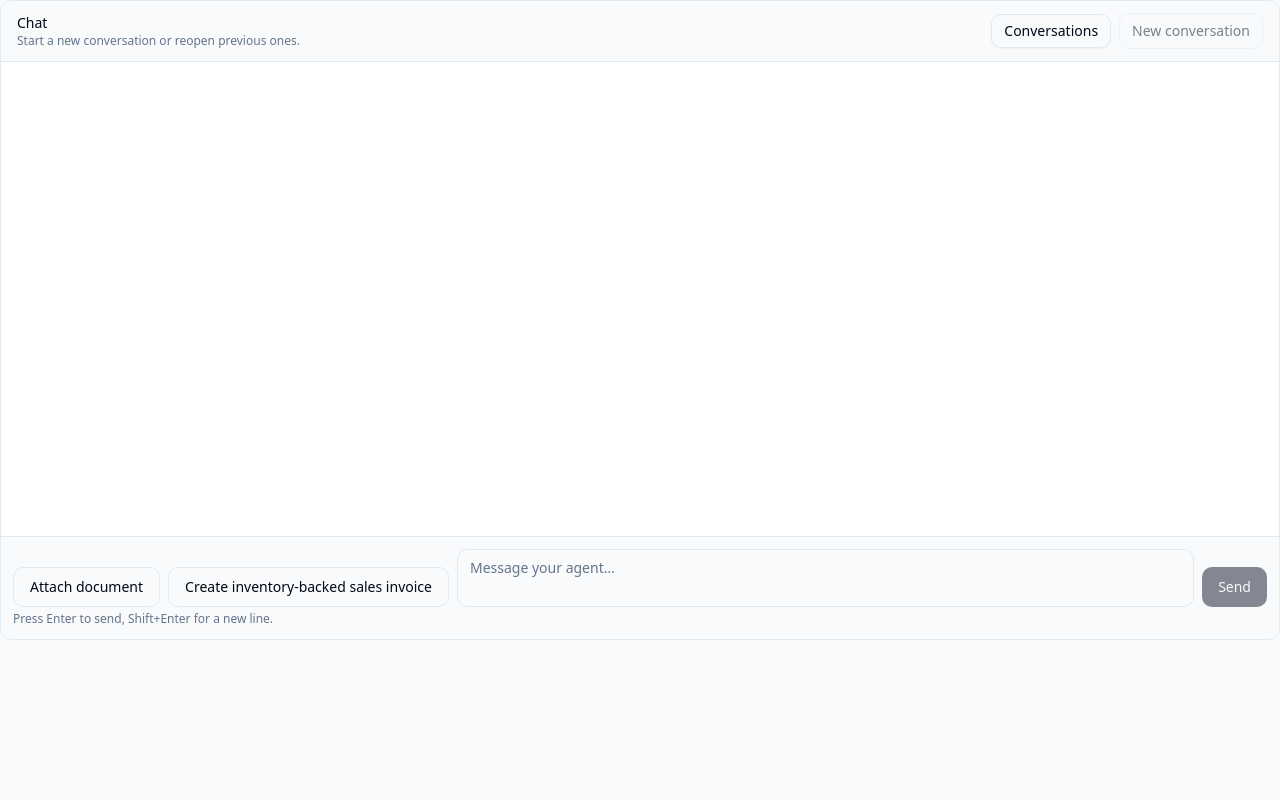
ChatWindow › reopens a selected old conversation from the menu
Step 1. Click the heading "Conversations" → click(1051, 31), box left=991, top=14, right=1111, bottom=48
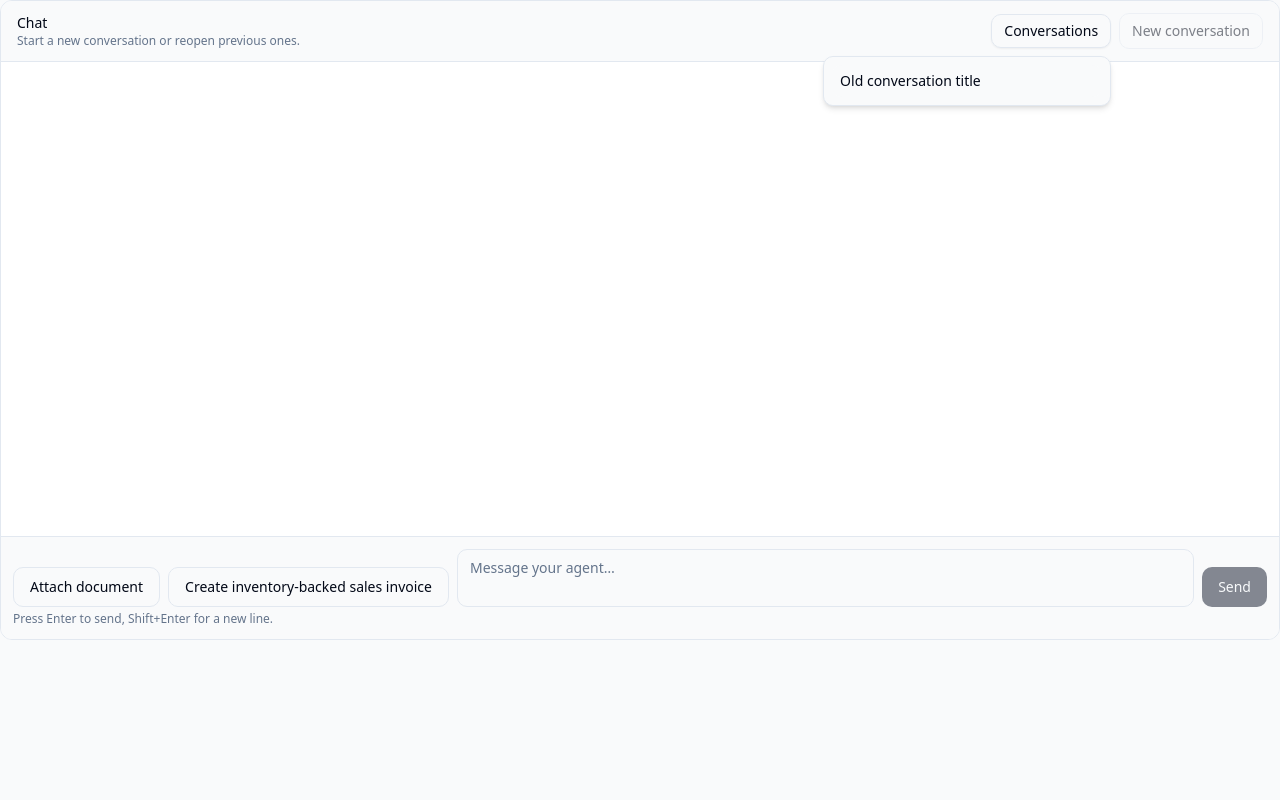
Step 2. Click the button "Old conversation title" → click(967, 81), box left=832, top=65, right=1102, bottom=97
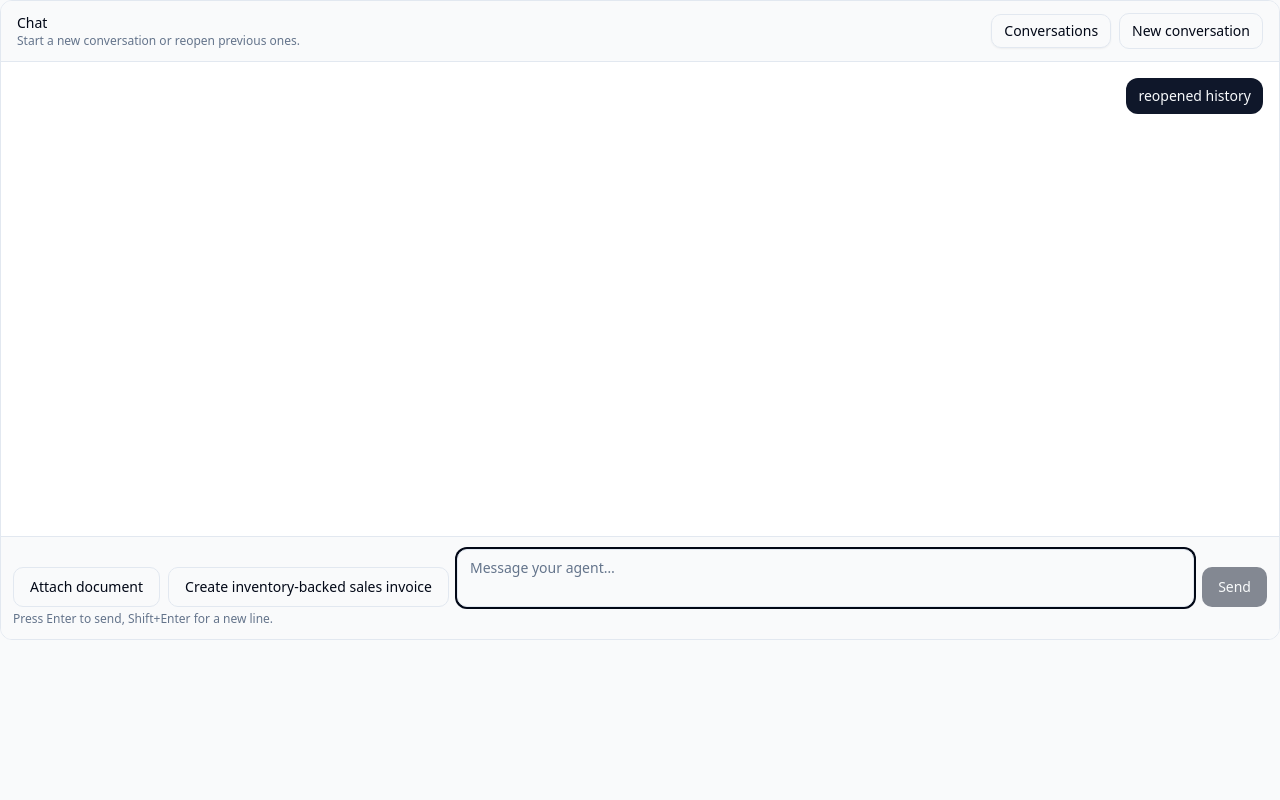
Result: the text "reopened history" is shown at left=1126, top=78, right=1263, bottom=114
